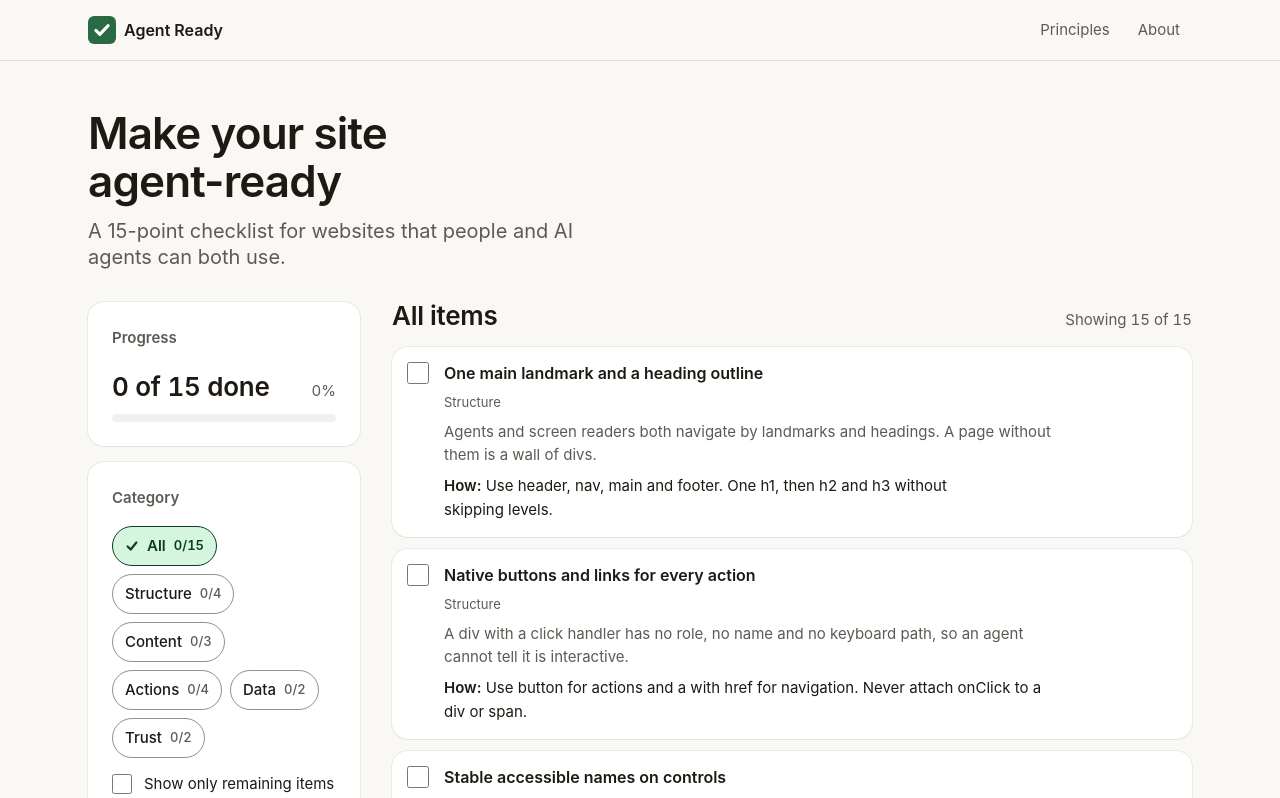
Test: App › filters by category and shows an empty state when a category is complete
This screenshot has width=1280, height=798.
Click the radio button labelled "Trust 0/2". click: (158, 738)
box: left=112, top=718, right=205, bottom=758
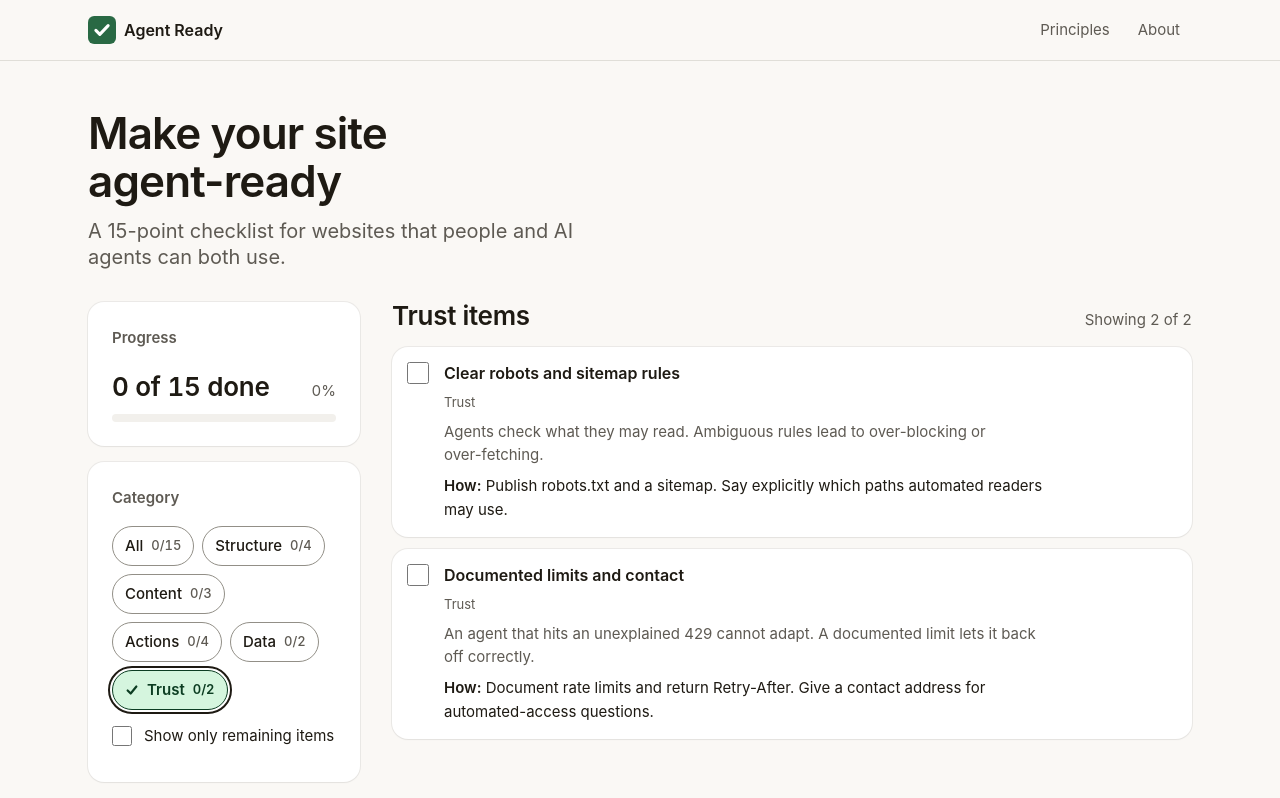
Result: the heading "Trust items" is shown at left=392, top=302, right=530, bottom=330
Click the checkbox labelled "Clear robots and sitemap rules". click: (418, 373)
box: left=407, top=362, right=429, bottom=384
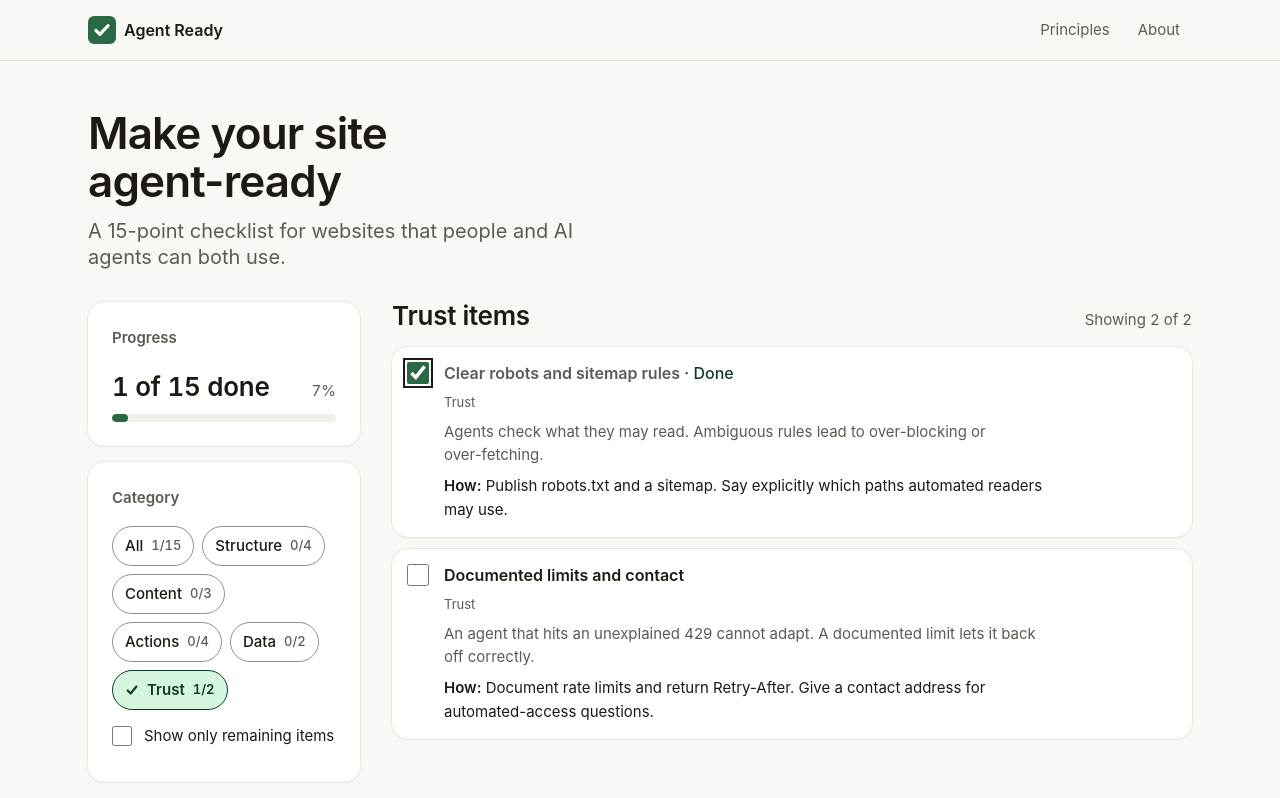
Click the checkbox labelled "Documented limits and contact". click: (418, 575)
box: left=407, top=564, right=429, bottom=586
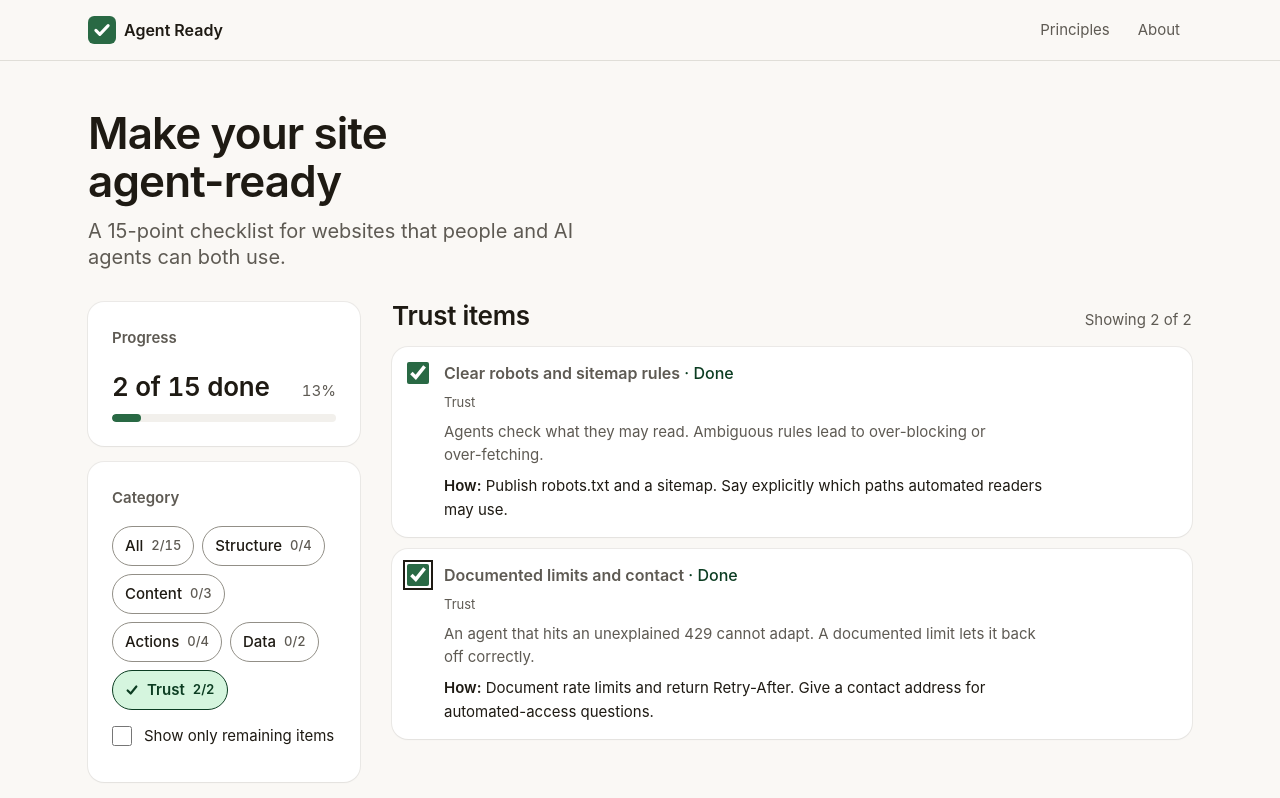
Click the checkbox labelled "Show only remaining items". click: (122, 736)
box: left=112, top=726, right=132, bottom=746
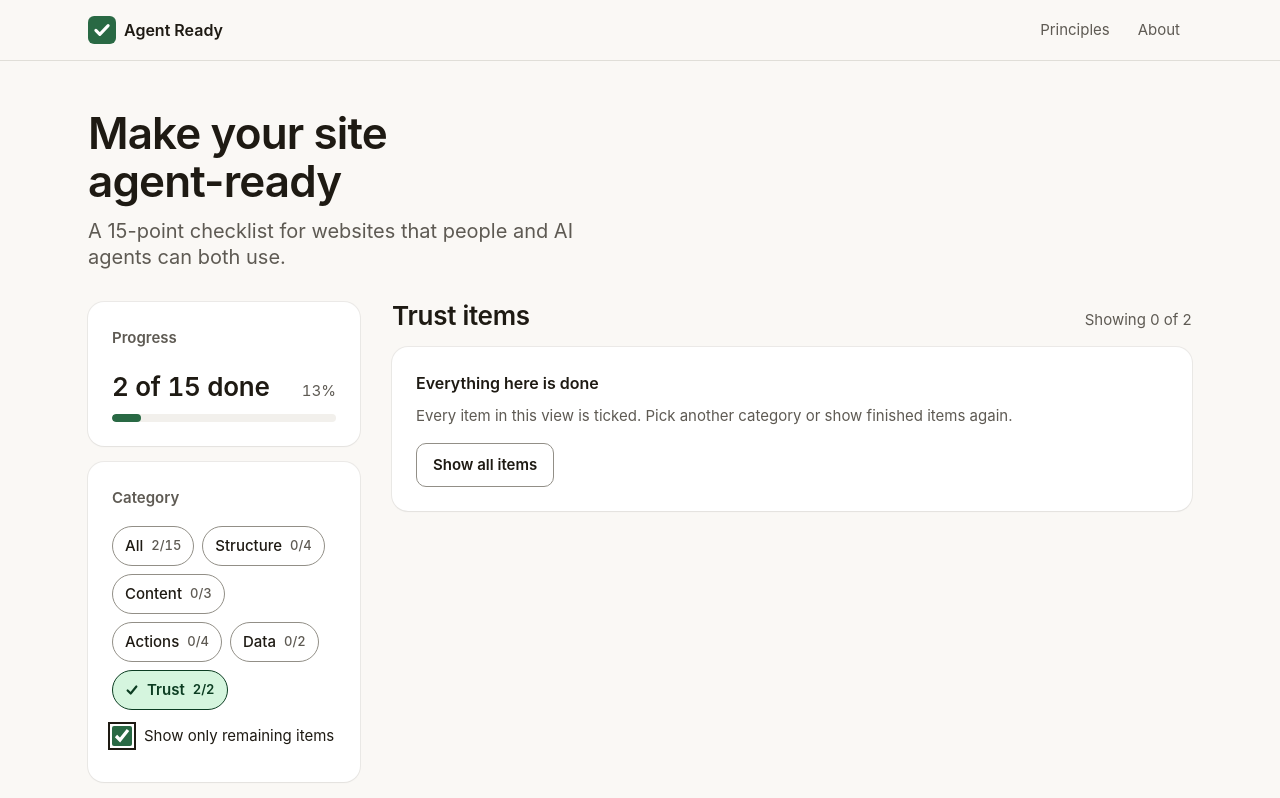
Result: the text "Everything here is done" is shown at left=416, top=371, right=599, bottom=396
Click the button "Show all items". click: (485, 465)
box: left=416, top=443, right=554, bottom=487
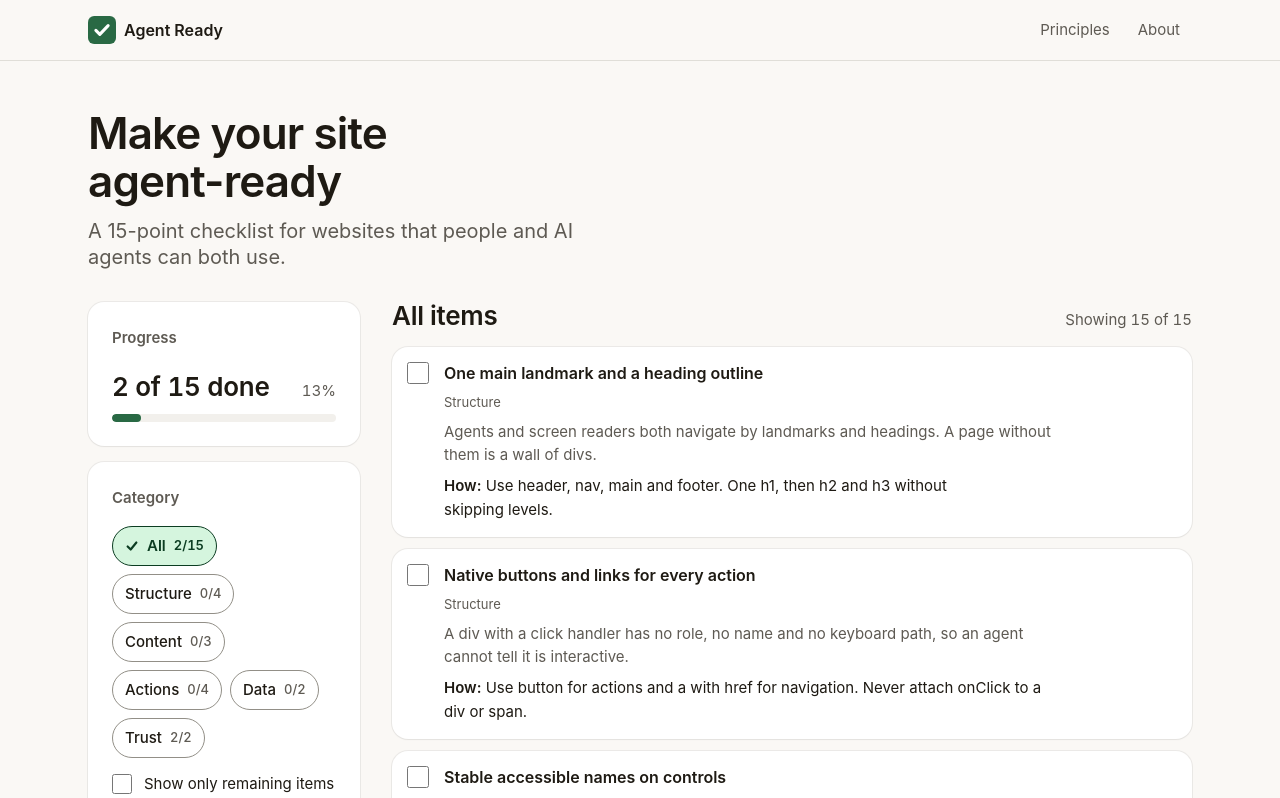
Result: the radio button labelled "All 2/15" is checked at left=112, top=526, right=217, bottom=566
